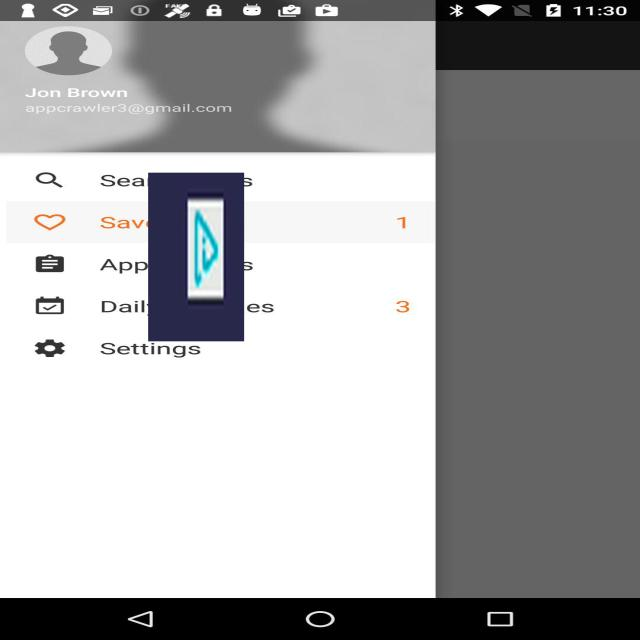sneaking: (148, 173, 244, 341)
